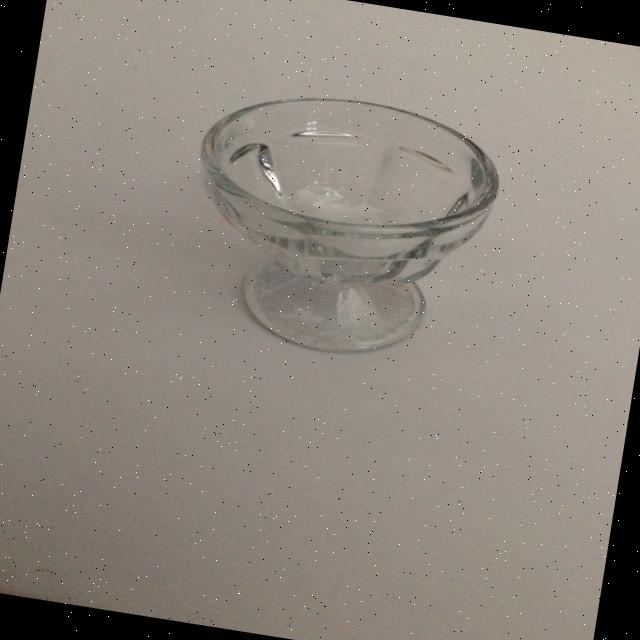glass: (171, 76, 509, 374)
